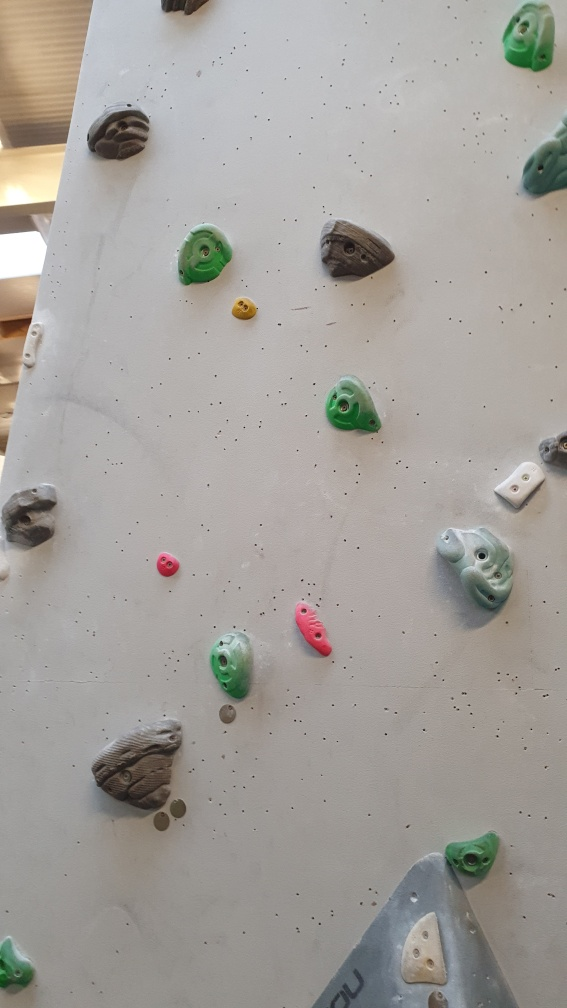Crimp: (491, 455, 549, 514), (291, 598, 333, 659), (25, 321, 42, 375)
Hand Start: (213, 699, 238, 730), (170, 795, 188, 817), (428, 990, 448, 1007), (153, 813, 170, 831)
Jug: (91, 715, 185, 810), (436, 527, 521, 621), (315, 212, 398, 282), (1, 475, 61, 550), (173, 220, 238, 287), (500, 1, 560, 72), (86, 99, 150, 161), (325, 374, 386, 437), (209, 627, 252, 707)
Pinch: (154, 548, 181, 579), (231, 295, 259, 322)
